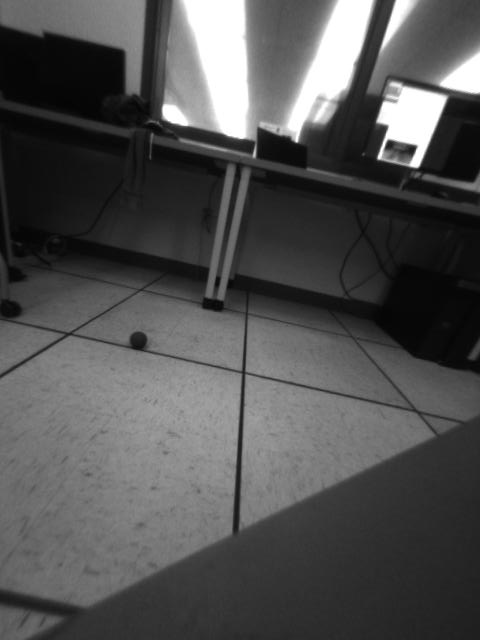dogtoy: (122, 324, 156, 356)
